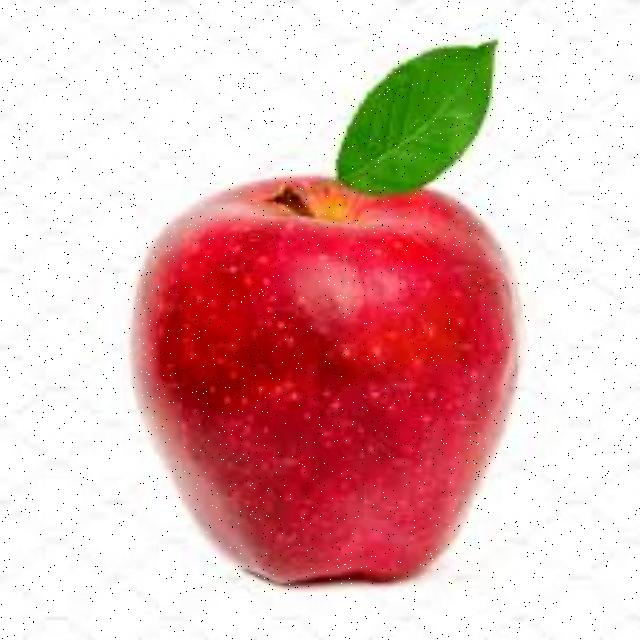HEALTHY: (119, 150, 545, 588)
